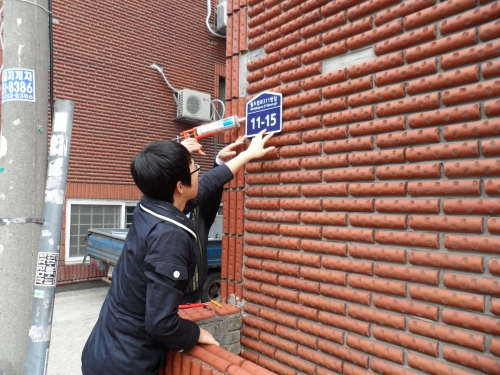building_license_plate1: (245, 90, 283, 138)
